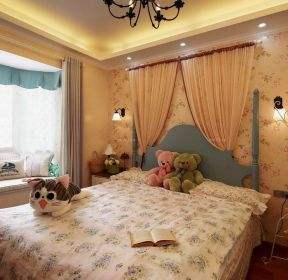床: (7, 175, 280, 277)
灯: (103, 1, 186, 33), (272, 96, 287, 129), (110, 106, 127, 123), (257, 22, 269, 30), (178, 42, 188, 50), (125, 56, 133, 62)
